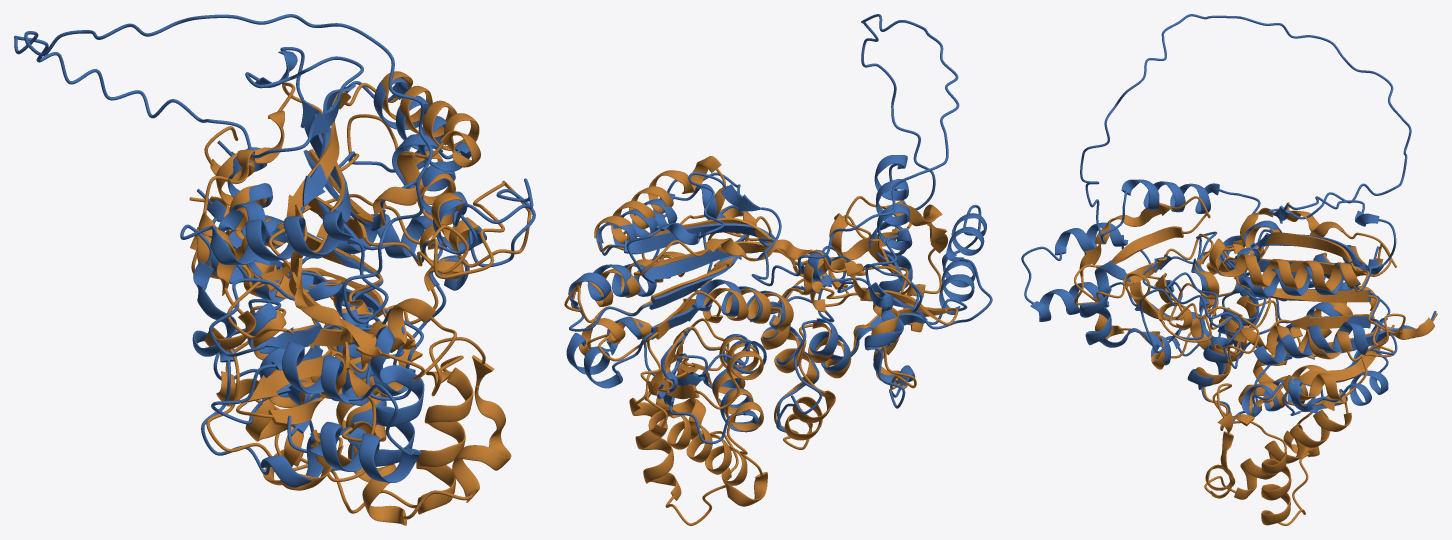
Rendered from AF-A0A5B9Y4K1-F1-AF-Q6ICS7-F1.glb.
The picture shows the model from 3 angles, left to right: view 1: azimuth 30°, elevation 25°; view 2: azimuth 150°, elevation 25°; view 3: azimuth 270°, elevation 25°; orthographic projection. The views are drawn at different scales.
Bounding box in the file's own units: 61.57 × 79.4 × 71.07.
